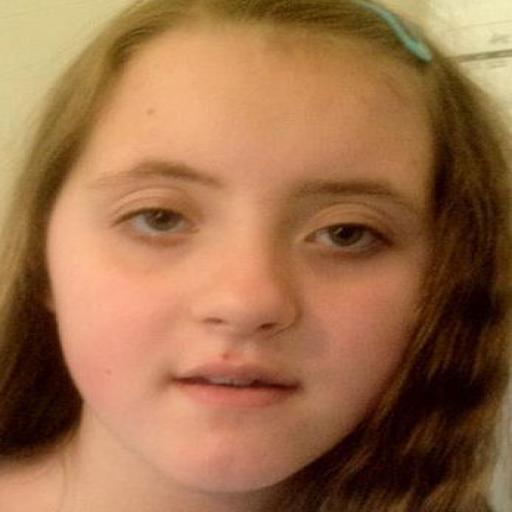Autism: (30, 6, 512, 496)
